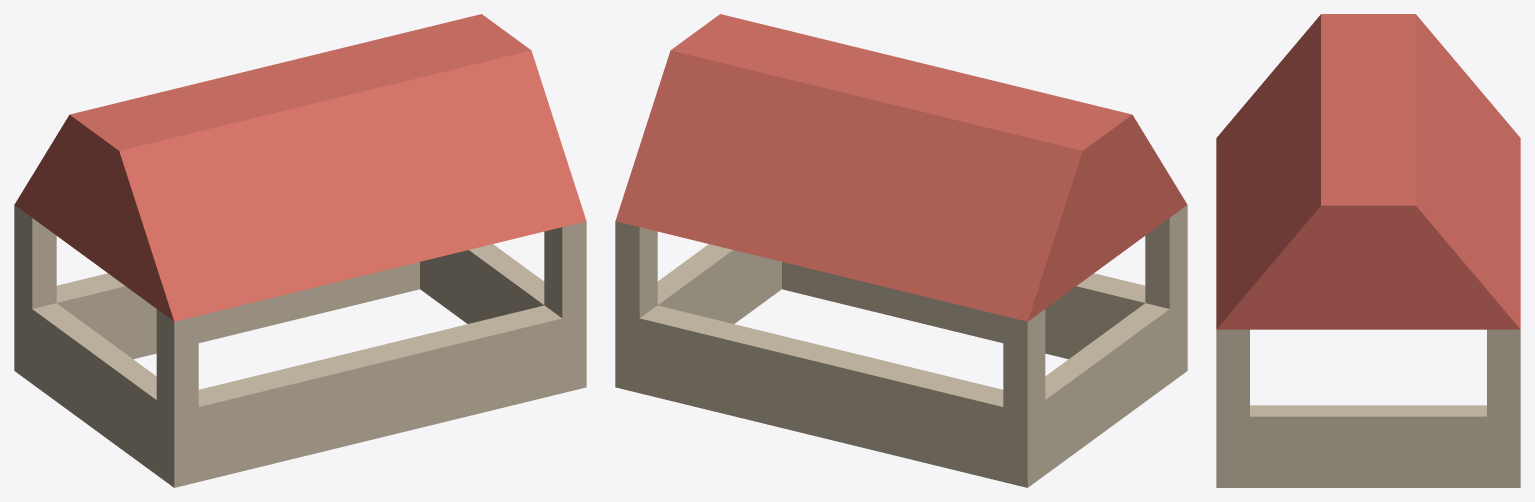
The model's file is Marktje.fbx.
3 renders of one model, left to right at view 1: azimuth 30°, elevation 25°; view 2: azimuth 150°, elevation 25°; view 3: azimuth 270°, elevation 25°, orthographic. The views are drawn at different scales.
Visible parts, largest first — view 1: Marktje; view 2: Marktje; view 3: Marktje.
Boxes of the visible parts, x1=… form: Marktje: x1=14, y1=14, x2=586, y2=487; Marktje: x1=615, y1=14, x2=1187, y2=487; Marktje: x1=1216, y1=14, x2=1520, y2=487.
Bounding box in the file's own units: 0.3427 × 0.2357 × 0.2302.
